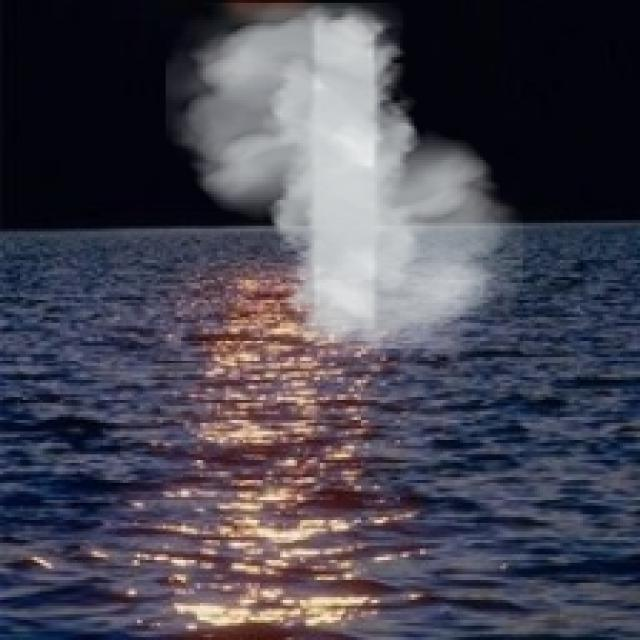smoke: (166, 3, 523, 348)
